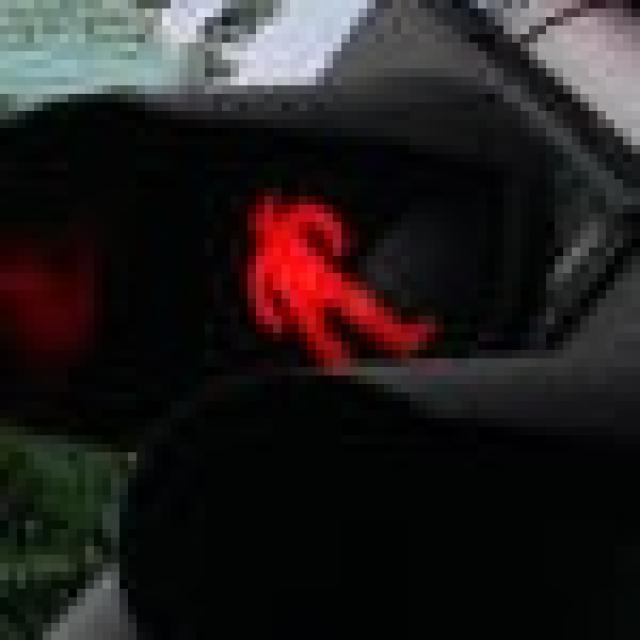red-crossing: (162, 145, 469, 376)
